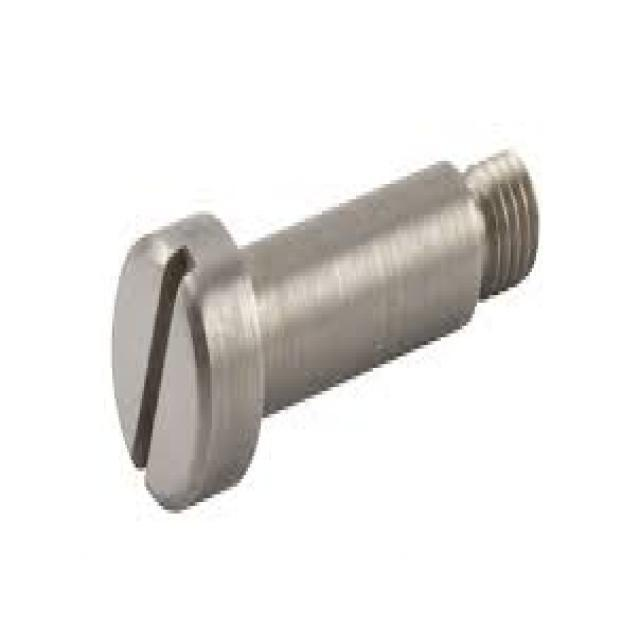Screw: (110, 149, 543, 514)
